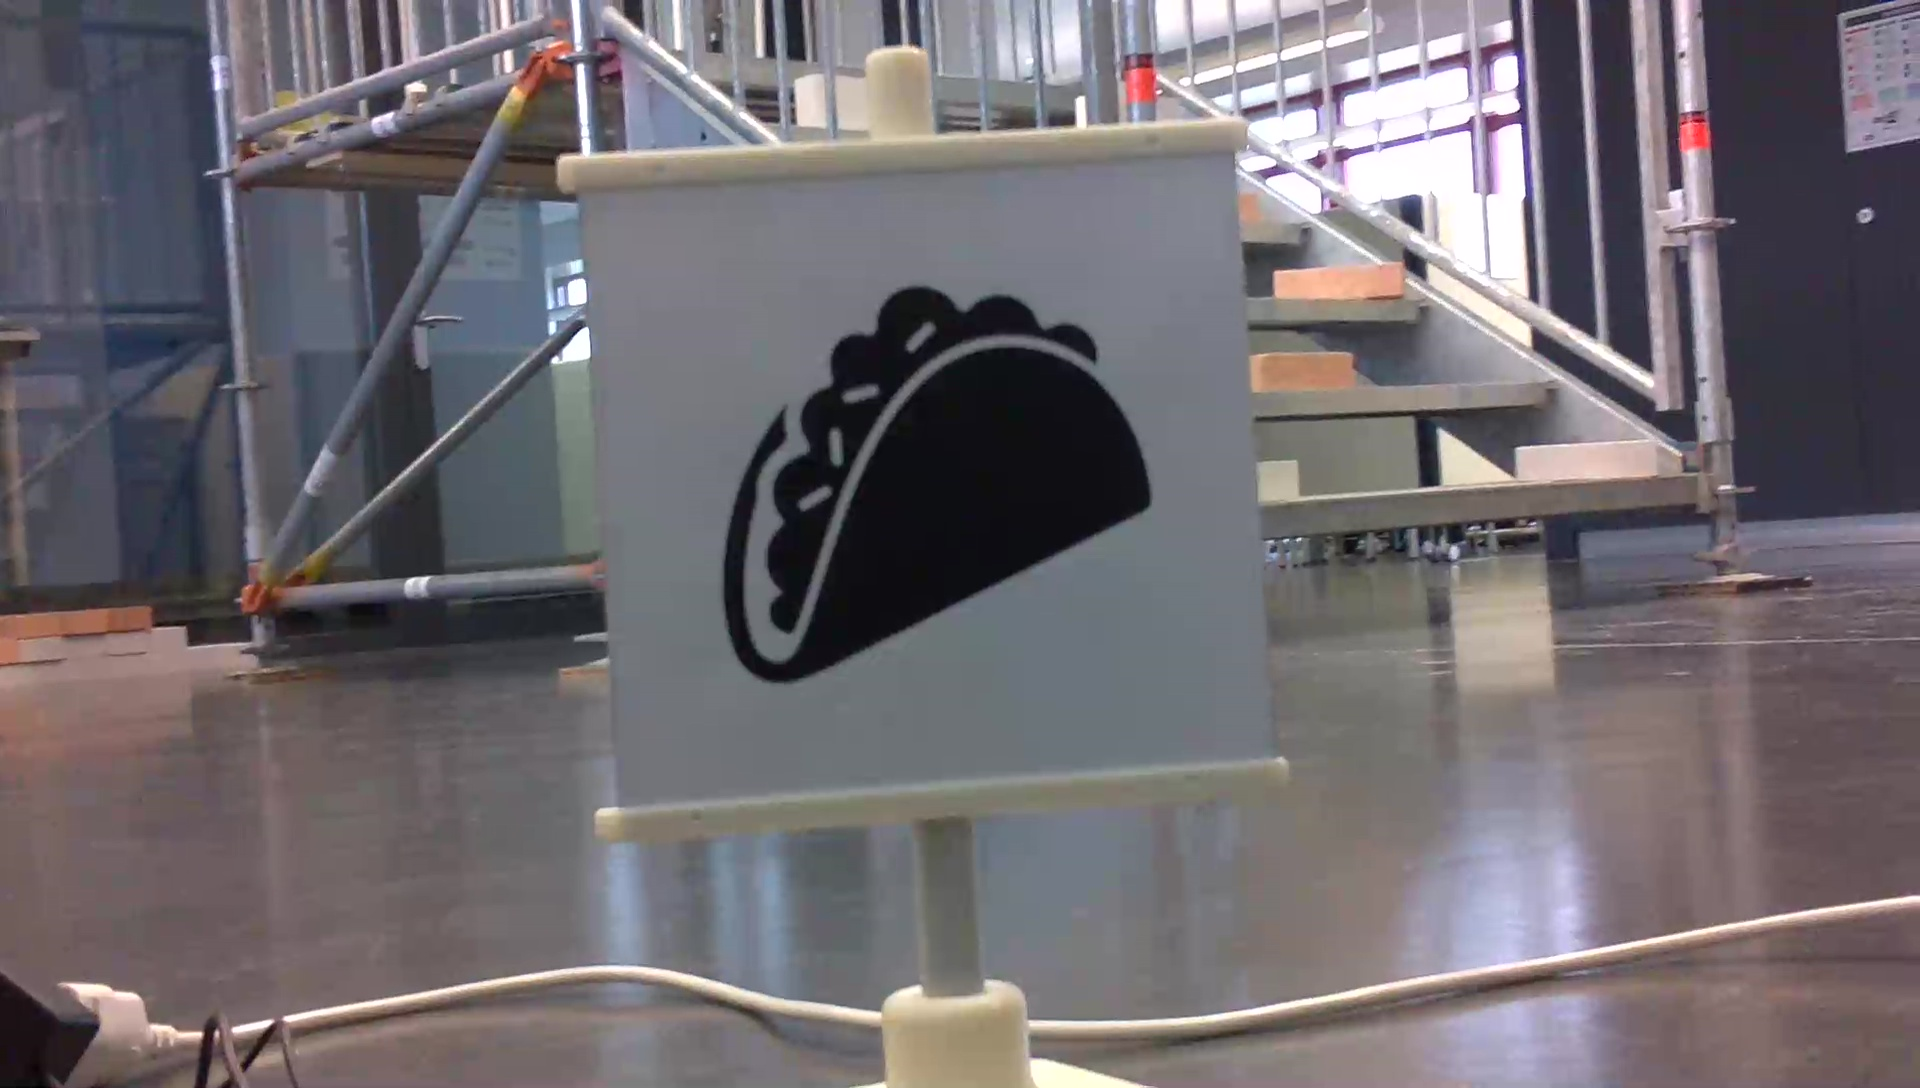brick: (1516, 440, 1655, 475), (1250, 351, 1352, 390), (1273, 266, 1403, 295), (1258, 460, 1298, 497)
edge: (1258, 475, 1696, 535), (1247, 380, 1563, 415)
taco: (703, 274, 1166, 698)
